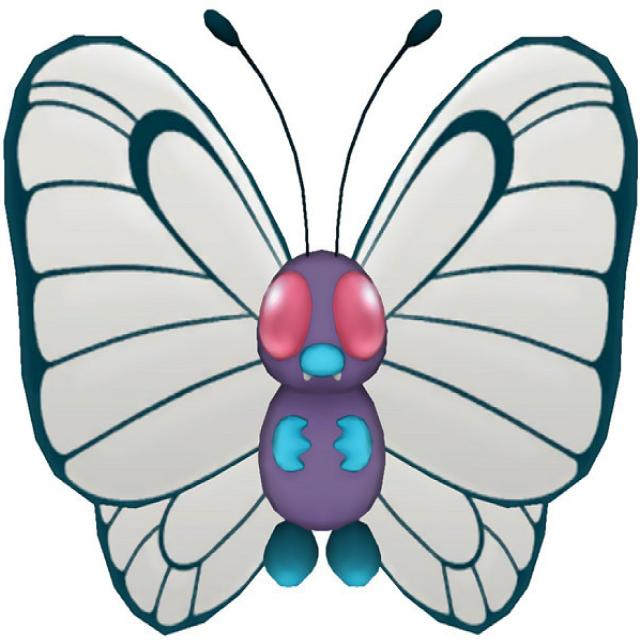Butterfree: (126, 110, 512, 596)
